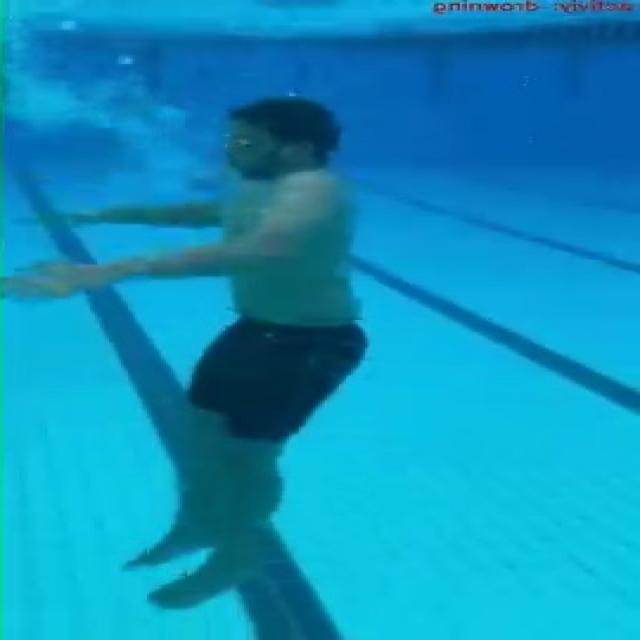drowning: (24, 75, 397, 597)
